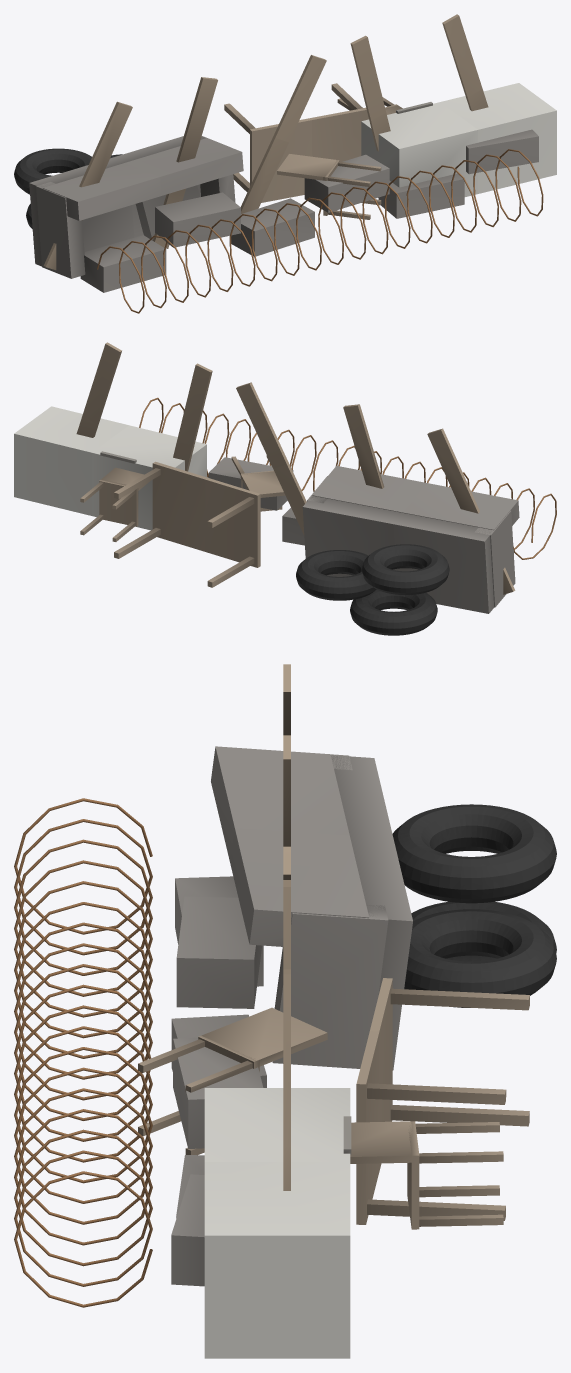
Rendered from barricada_sobr.glb.
3 views of the same model, one above another, from view 1: azimuth 30°, elevation 25°; view 2: azimuth 150°, elevation 25°; view 3: azimuth 270°, elevation 25° (orthographic). The views are drawn at different scales.
Parts seen in each view (by area): view 1: sofa, geladeira, arame, mesa, saco_1, saco_0, saco_2, tabua_2, saco_3, saco_4, saco_5, mesa_cadeira0 (+5 smaller); view 2: sofa, geladeira, mesa, Torus.002, Torus, Torus.001, tabua_2, arame, mesa_cadeira1, tabua_3, tabua_4, tabua_0 (+4 smaller); view 3: sofa, geladeira, arame, Torus.002, mesa, Torus.001, saco_1, mesa_cadeira1, mesa_cadeira0, saco_3, saco_5, tabua_4 (+4 smaller).
Part boxes in pixels (x1=…): sofa: x1=29, y1=136, x2=243, y2=278; geladeira: x1=361, y1=83, x2=556, y2=197; arame: x1=97, y1=149, x2=543, y2=313; mesa: x1=224, y1=83, x2=368, y2=202; saco_1: x1=155, y1=192, x2=240, y2=247; saco_0: x1=80, y1=235, x2=166, y2=292; saco_2: x1=231, y1=198, x2=314, y2=256; tabua_2: x1=241, y1=55, x2=326, y2=213; saco_3: x1=304, y1=154, x2=389, y2=212; saco_4: x1=378, y1=173, x2=464, y2=218; saco_5: x1=466, y1=129, x2=538, y2=174; mesa_cadeira0: x1=277, y1=154, x2=381, y2=219; sofa: x1=302, y1=465, x2=519, y2=613; geladeira: x1=14, y1=406, x2=206, y2=530; mesa: x1=114, y1=461, x2=260, y2=587; Torus.002: x1=362, y1=544, x2=449, y2=595; Torus: x1=350, y1=589, x2=437, y2=635; Torus.001: x1=296, y1=550, x2=376, y2=600; tabua_2: x1=236, y1=382, x2=306, y2=535; arame: x1=139, y1=397, x2=556, y2=559; mesa_cadeira1: x1=80, y1=467, x2=149, y2=541; tabua_3: x1=173, y1=363, x2=212, y2=471; tabua_4: x1=76, y1=342, x2=121, y2=437; tabua_0: x1=427, y1=428, x2=515, y2=594; sofa: x1=211, y1=746, x2=412, y2=1070; geladeira: x1=204, y1=1088, x2=351, y2=1358; arame: x1=14, y1=798, x2=152, y2=1307; Torus.002: x1=392, y1=804, x2=556, y2=903; mesa: x1=356, y1=978, x2=529, y2=1224; Torus.001: x1=404, y1=909, x2=556, y2=1007; saco_1: x1=176, y1=896, x2=261, y2=1008; mesa_cadeira1: x1=350, y1=1121, x2=503, y2=1229; mesa_cadeira0: x1=138, y1=1007, x2=327, y2=1155; saco_3: x1=173, y1=1037, x2=263, y2=1148; saco_5: x1=171, y1=1174, x2=204, y2=1286; tabua_4: x1=283, y1=969, x2=290, y2=1190.
Size of what is drawn, in the model's own units: 5.6 by 1.8 by 2.8.
